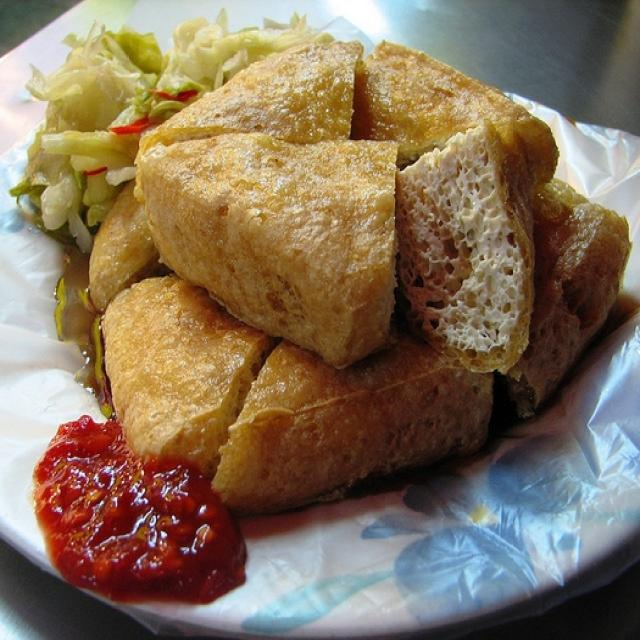豆腐料理: (7, 4, 628, 618)
